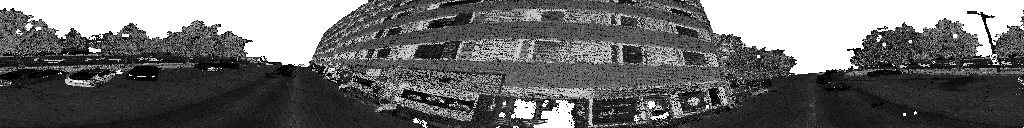gantry_sign_pole: (85, 34, 104, 50)
light_pole: (967, 11, 1000, 71)
